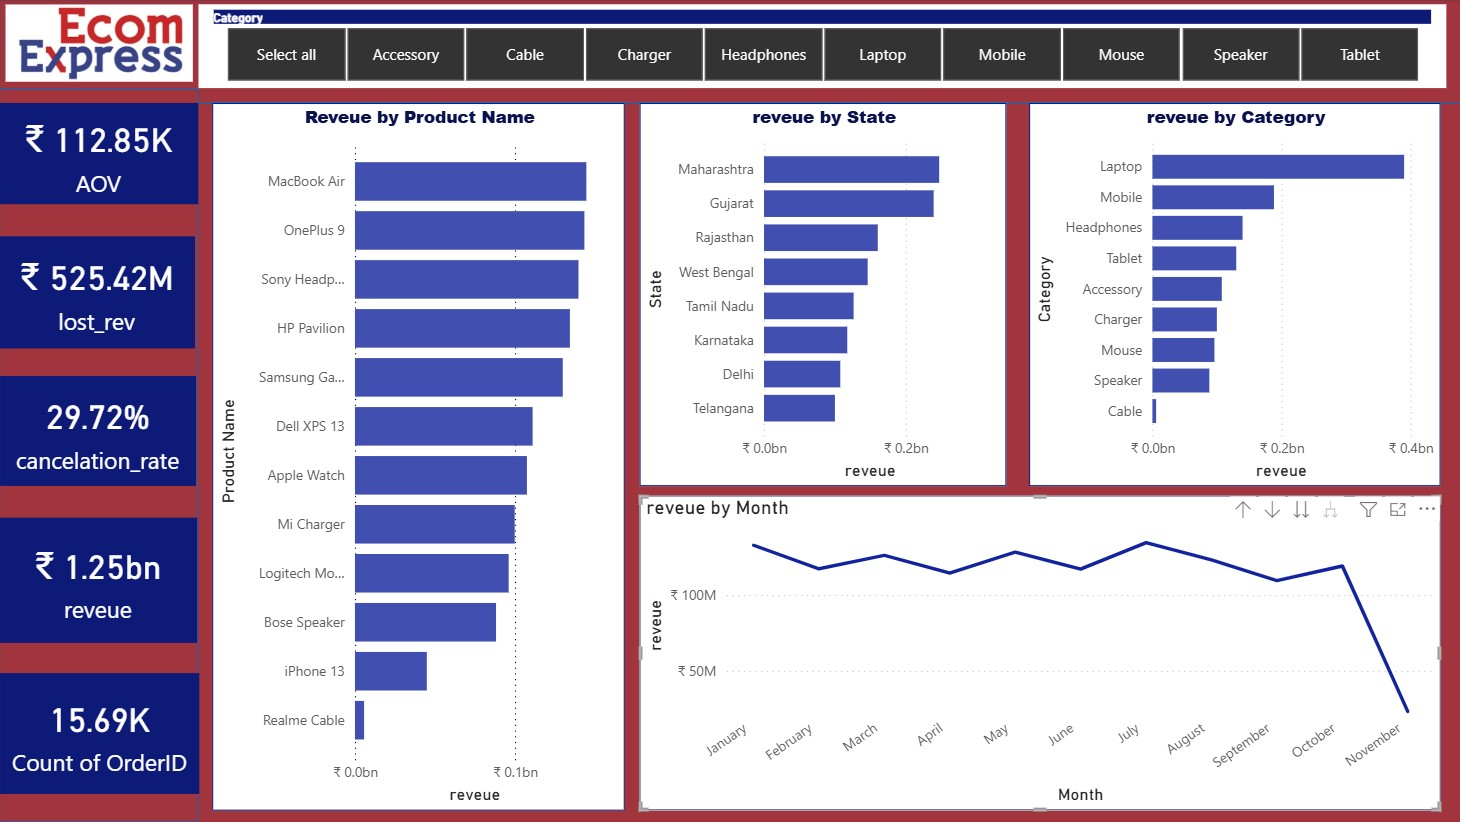

This screenshot's page, from the dashboard's own definition file:
{"tool":"powerbi","page":{"name":"Page 1","canvas":[1280,720],"ordinal":0},"visuals":[{"type":"shape","box":[0,0,1280,91.1],"z":0},{"type":"image","box":[0,0,174.4,77.8],"z":1000},{"type":"shape","box":[0,77.8,174.4,642.2],"z":2000},{"type":"barChart","title":"Reveue by Product Name","fields":{"Y":["Table.reveue"],"Category":["Products.Product Name"]},"box":[186.7,91.1,361.1,618.9],"z":3000},{"type":"barChart","fields":{"Category":["Products.Category"],"Y":["Table.reveue"]},"box":[901.1,91.1,360,335.6],"z":4000},{"type":"lineChart","fields":{"Category":["Orders.Date and time of purchase.Variation.Date Hierarchy.Year","Orders.Date and time of purchase.Variation.Date Hierarchy.Quarter","Orders.Date and time of purchase.Variation.Date Hierarchy.Month","Orders.Date and time of purchase.Variation.Date Hierarchy.Day"],"Y":["Table.reveue"]},"box":[560,434.4,701.1,275.6],"z":5000},{"type":"barChart","fields":{"Category":["Customers.State"],"Y":["Table.reveue"]},"box":[560,91.1,321.1,335.6],"z":6000},{"type":"slicer","fields":{"Values":["Products.Category"]},"box":[174.4,4.4,1091.1,73.3],"z":7000},{"type":"card","fields":{"Values":["Table.AOV"]},"box":[0,91.1,174.4,88.9],"z":8000},{"type":"card","fields":{"Values":["Table.cancelation_rate"]},"box":[1.1,330,171.1,96.7],"z":9000},{"type":"card","fields":{"Values":["Table.lost_rev"]},"box":[0,207.8,171.1,97.8],"z":10000},{"type":"card","fields":{"Values":["Table.reveue"]},"box":[0,453.3,173.3,110],"z":11000},{"type":"card","title":"total orders","fields":{"Values":["CountNonNull(Orders.OrderID)"]},"box":[1.1,590,174.4,105.6],"z":12000}]}

Visuals, with their boxes in screenshot pixels (x1, y1, x2, y2), scaled from the page's 1280x720 canvas onto the 1460x822 screenshot:
shape: bbox=[0, 0, 1459, 104]
image: bbox=[0, 0, 199, 89]
shape: bbox=[0, 89, 199, 821]
"Reveue by Product Name" barChart: bbox=[213, 104, 625, 811]
barChart - Products.Category x Table.reveue: bbox=[1028, 104, 1438, 487]
lineChart - Orders.Date and time of purchase.Variation.Date Hierarchy.Year x Orders.Date and time of purchase.Variation.Date Hierarchy.Quarter: bbox=[639, 496, 1438, 811]
barChart - Customers.State x Table.reveue: bbox=[639, 104, 1005, 487]
slicer - Products.Category: bbox=[199, 5, 1443, 89]
card - Table.AOV: bbox=[0, 104, 199, 206]
card - Table.cancelation_rate: bbox=[1, 377, 196, 487]
card - Table.lost_rev: bbox=[0, 237, 195, 349]
card - Table.reveue: bbox=[0, 518, 198, 643]
"total orders" card: bbox=[1, 674, 200, 794]
